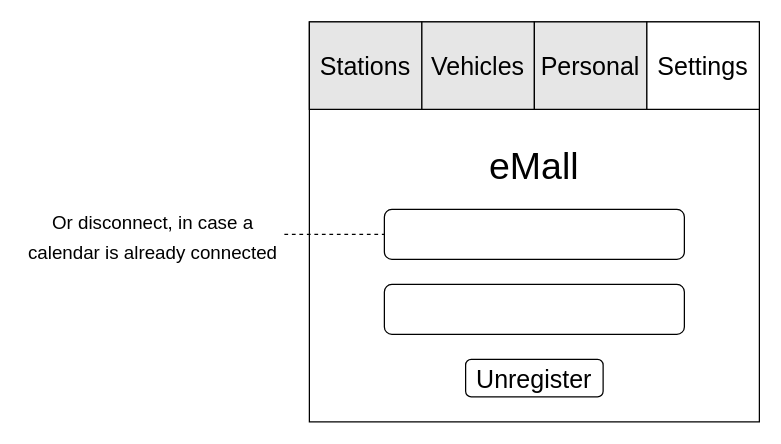
This 781x444 diagram has some shape labels left out. Each missing label, with the centre of its shape:
Change payment method: the point at 533,308
Connect calendar: the point at 533,233
